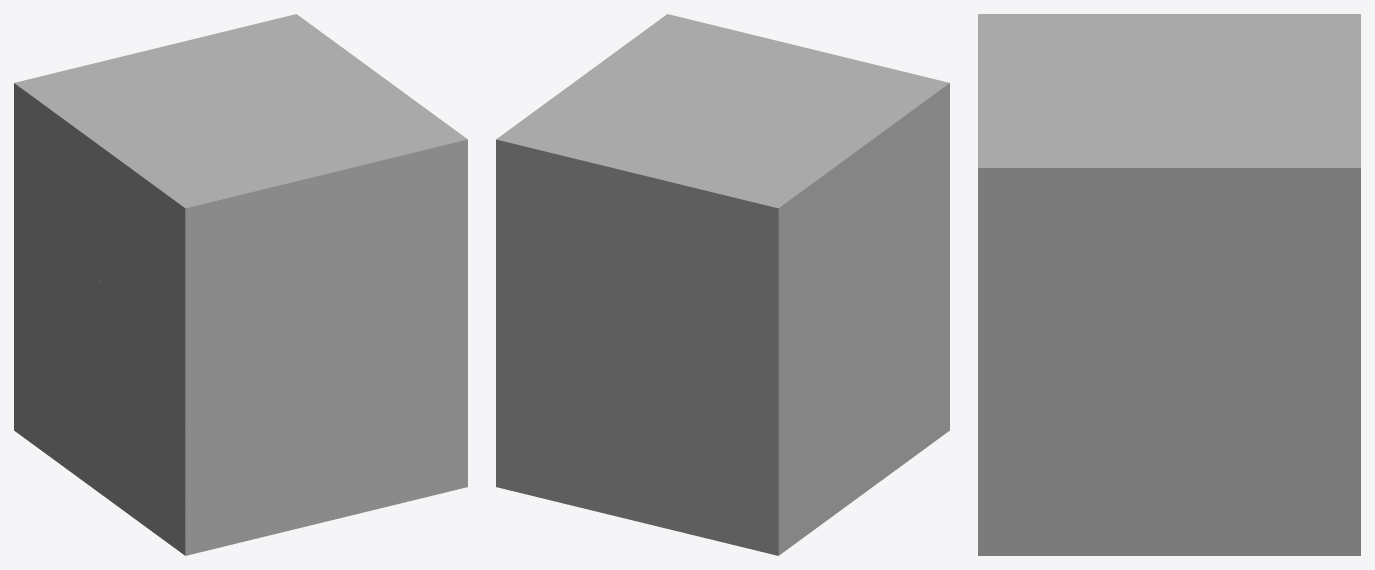
3 renders of one model, left to right at view 1: azimuth 30°, elevation 25°; view 2: azimuth 150°, elevation 25°; view 3: azimuth 270°, elevation 25°, orthographic. The views are drawn at different scales.
Parts seen in each view (by area): view 1: box; view 2: box; view 3: box.
Part boxes in pixels (x1,y1,x2,y2): box: (14,14,467,555); box: (496,14,949,555); box: (978,14,1360,555).
Bounding box in the file's own units: 0.2748 × 0.3223 × 0.2881.
2 materials, 1 textured.
